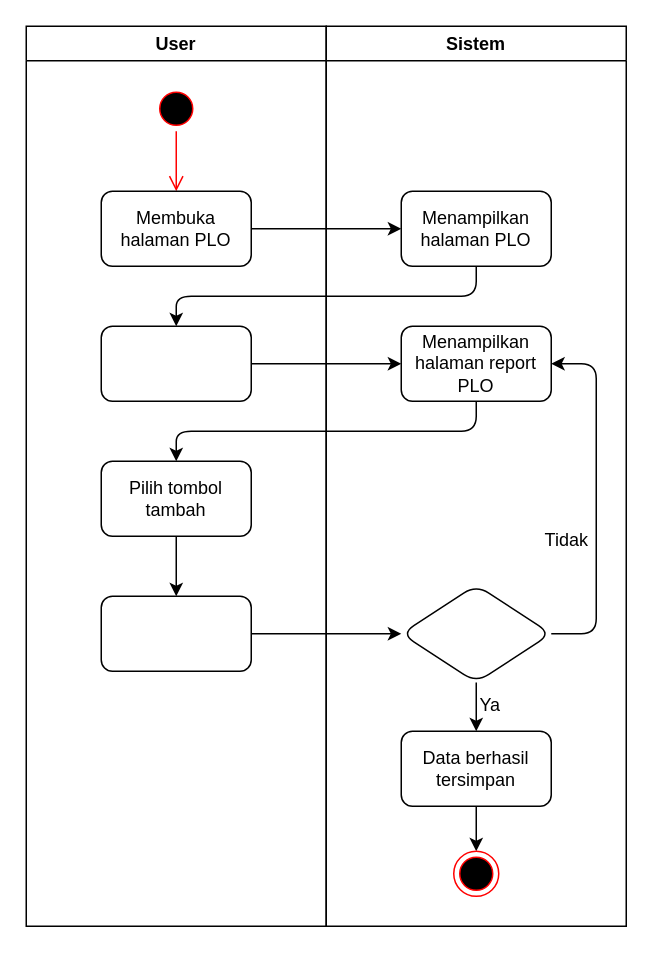
This 653x953 diagram has some shape labels left out. Each missing label, with the centre of its shape:
"Memilih data PLO untuk report PLO" goes at (175,363).
"Unggah file report PLO" goes at (175,633).
"Validasi data" goes at (475,633).
